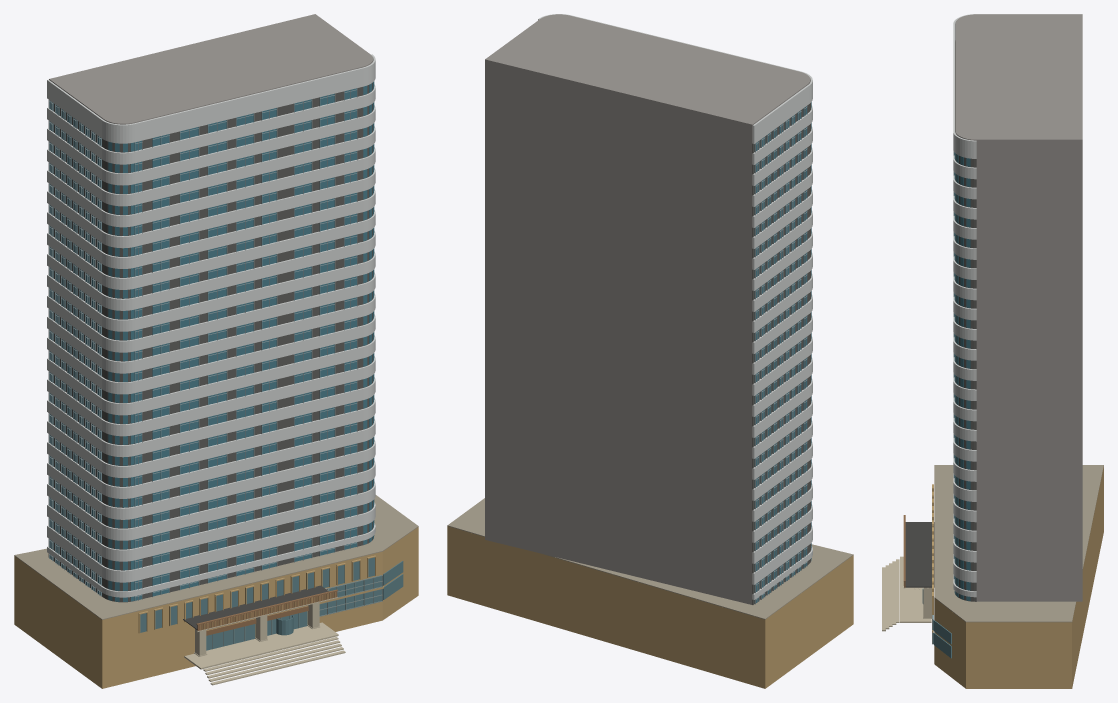
File: detail.glb
3 views of the same model, side by side, from view 1: azimuth 30°, elevation 25°; view 2: azimuth 150°, elevation 25°; view 3: azimuth 270°, elevation 25° (orthographic). The views are drawn at different scales.
Visible parts, largest first — view 1: Observed_silver_bands, KEEP_TOWER_WEB_Observed_blue_glass, Observed_dark_spandrel, Observed_window_frames, G_podium_gold_appearance, KEEP_TOWER_WEB_HOLD_unknown_not_blank_wall, G_assumed_hidden_base, G_visible_piers_steps, G_podium_bluegray, G_canopy_copper_edge, G_canopy_dark_top, G_podium_frame; view 2: KEEP_TOWER_WEB_HOLD_unknown_not_blank_wall, G_podium_gold_appearance, Observed_silver_bands, Observed_window_frames, KEEP_TOWER_WEB_Observed_blue_glass, Observed_dark_spandrel, G_assumed_hidden_base; view 3: KEEP_TOWER_WEB_HOLD_unknown_not_blank_wall, G_podium_gold_appearance, Observed_silver_bands, G_assumed_hidden_base, Observed_dark_spandrel, KEEP_TOWER_WEB_Observed_blue_glass, G_visible_piers_steps, G_canopy_dark_top, G_podium_bluegray.
Part boxes in pixels (left/top/right/bottom): Observed_silver_bands: left=47, top=54, right=375, bottom=597; KEEP_TOWER_WEB_Observed_blue_glass: left=49, top=81, right=374, bottom=601; Observed_dark_spandrel: left=48, top=83, right=372, bottom=602; Observed_window_frames: left=49, top=88, right=357, bottom=601; G_podium_gold_appearance: left=14, top=527, right=418, bottom=688; KEEP_TOWER_WEB_HOLD_unknown_not_blank_wall: left=49, top=14, right=373, bottom=124; G_assumed_hidden_base: left=14, top=495, right=418, bottom=619; G_visible_piers_steps: left=184, top=588, right=345, bottom=685; G_podium_bluegray: left=140, top=557, right=403, bottom=650; G_canopy_copper_edge: left=196, top=589, right=338, bottom=635; G_canopy_dark_top: left=183, top=585, right=328, bottom=629; G_podium_frame: left=212, top=575, right=382, bottom=649; KEEP_TOWER_WEB_HOLD_unknown_not_blank_wall: left=485, top=14, right=810, bottom=604; G_podium_gold_appearance: left=447, top=526, right=853, bottom=688; Observed_silver_bands: left=538, top=14, right=812, bottom=599; Observed_window_frames: left=755, top=105, right=807, bottom=604; KEEP_TOWER_WEB_Observed_blue_glass: left=754, top=102, right=811, bottom=603; Observed_dark_spandrel: left=752, top=103, right=810, bottom=604; G_assumed_hidden_base: left=447, top=498, right=853, bottom=619; KEEP_TOWER_WEB_HOLD_unknown_not_blank_wall: left=955, top=14, right=1082, bottom=601; G_podium_gold_appearance: left=903, top=466, right=1103, bottom=688; Observed_silver_bands: left=953, top=14, right=1082, bottom=597; G_assumed_hidden_base: left=934, top=465, right=1103, bottom=622; Observed_dark_spandrel: left=955, top=40, right=976, bottom=601; KEEP_TOWER_WEB_Observed_blue_glass: left=954, top=152, right=970, bottom=601; G_visible_piers_steps: left=882, top=556, right=931, bottom=631; G_canopy_dark_top: left=905, top=522, right=934, bottom=587; G_podium_bluegray: left=922, top=588, right=951, bottom=658.
Bounding box in the file's own units: 70 × 110 × 41.86.
